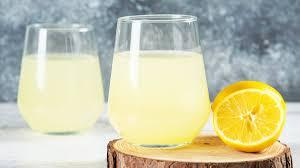lemon: (211, 81, 287, 152)
